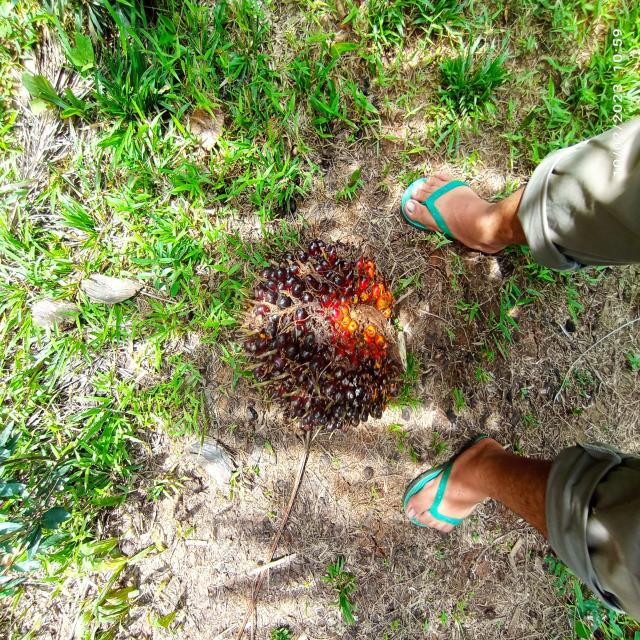fraksi 1: (226, 213, 422, 437)
